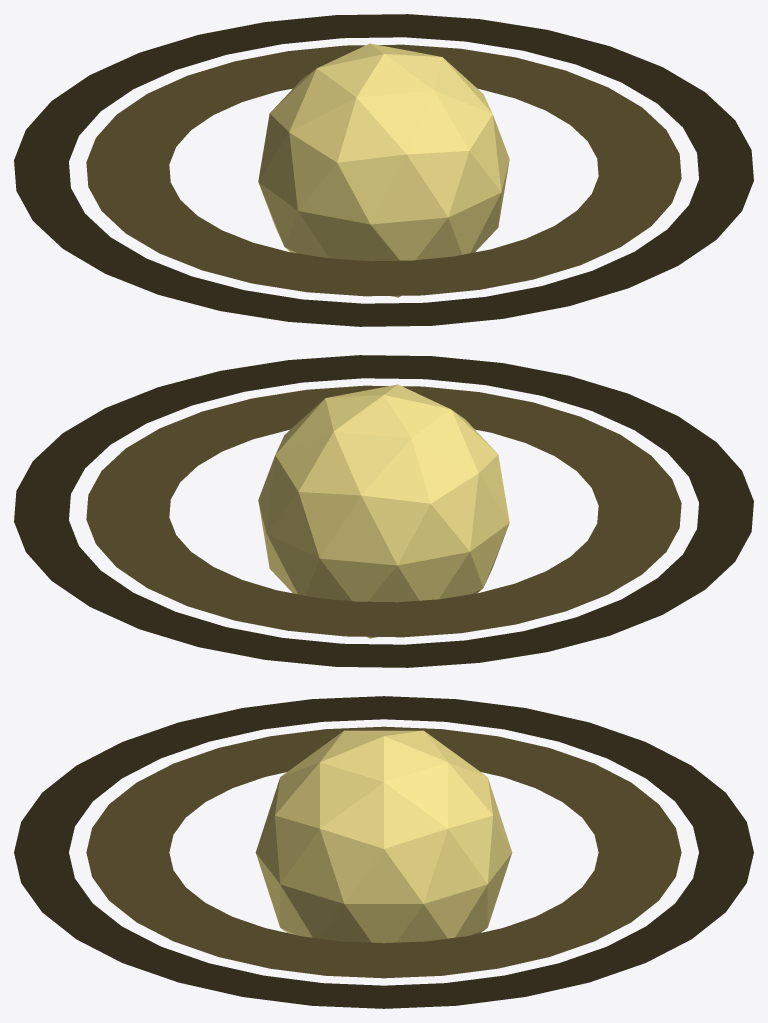
File: Saturn.fbx
The picture shows the model from 3 angles, top to bottom: view 1: azimuth 30°, elevation 25°; view 2: azimuth 150°, elevation 25°; view 3: azimuth 270°, elevation 25°; orthographic projection.
Visible parts, largest first — view 1: Saturn; view 2: Saturn; view 3: Saturn.
Part boxes in pixels (x1=…): Saturn: x1=14, y1=14, x2=753, y2=326; Saturn: x1=14, y1=355, x2=753, y2=667; Saturn: x1=14, y1=696, x2=753, y2=1008.
Bounding box in the file's own units: 587 × 204 × 587.
